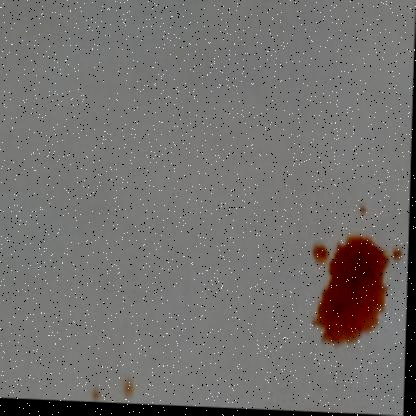kimchi: (304, 231, 405, 349), (345, 204, 368, 224), (119, 375, 136, 402), (83, 387, 99, 404)
